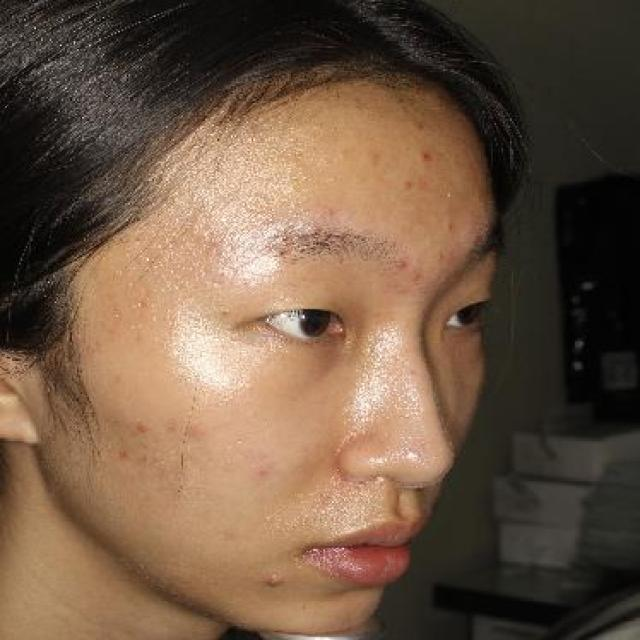Acne: (257, 566, 289, 594), (410, 142, 441, 168), (126, 414, 155, 438), (110, 439, 132, 466), (181, 417, 199, 446), (400, 171, 414, 200)
